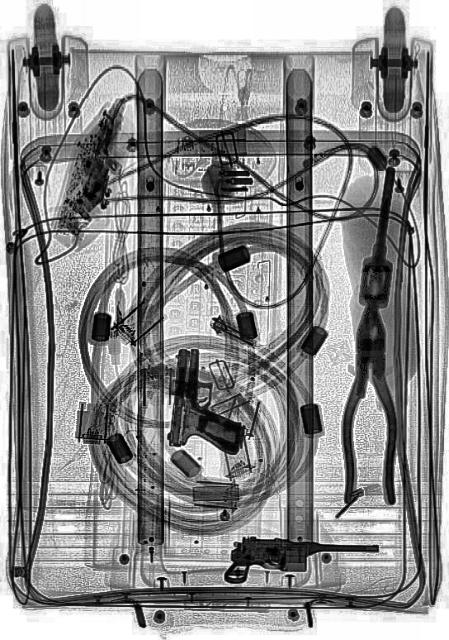Gun: (167, 342, 251, 456), (222, 533, 376, 593)
Pliers: (341, 303, 399, 503)
